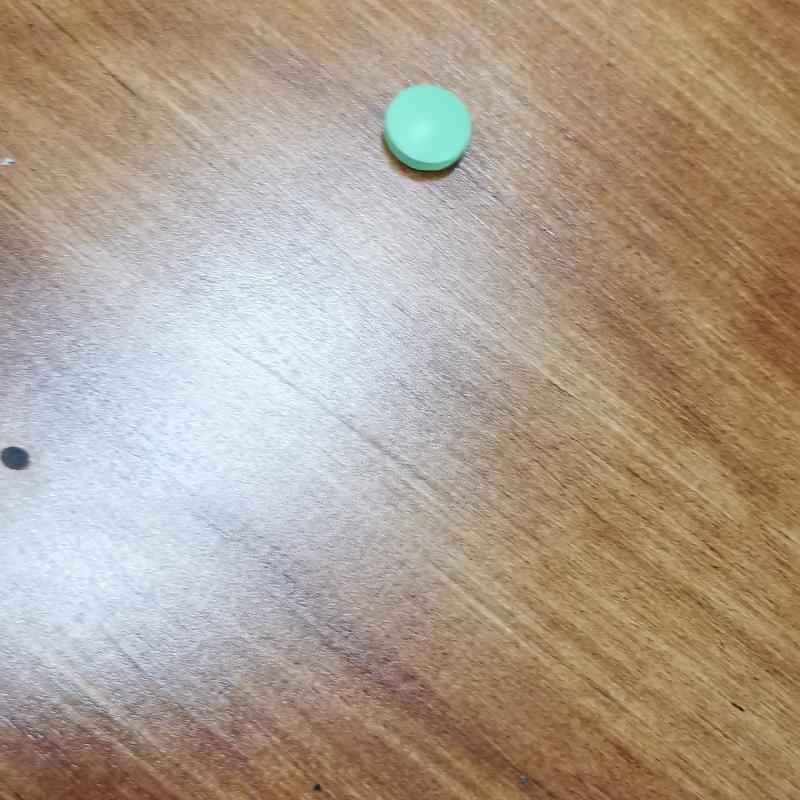pills: (374, 68, 490, 196)
